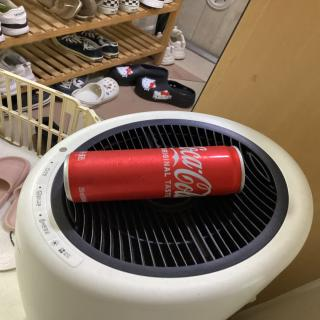cocacola: (57, 142, 255, 203)
